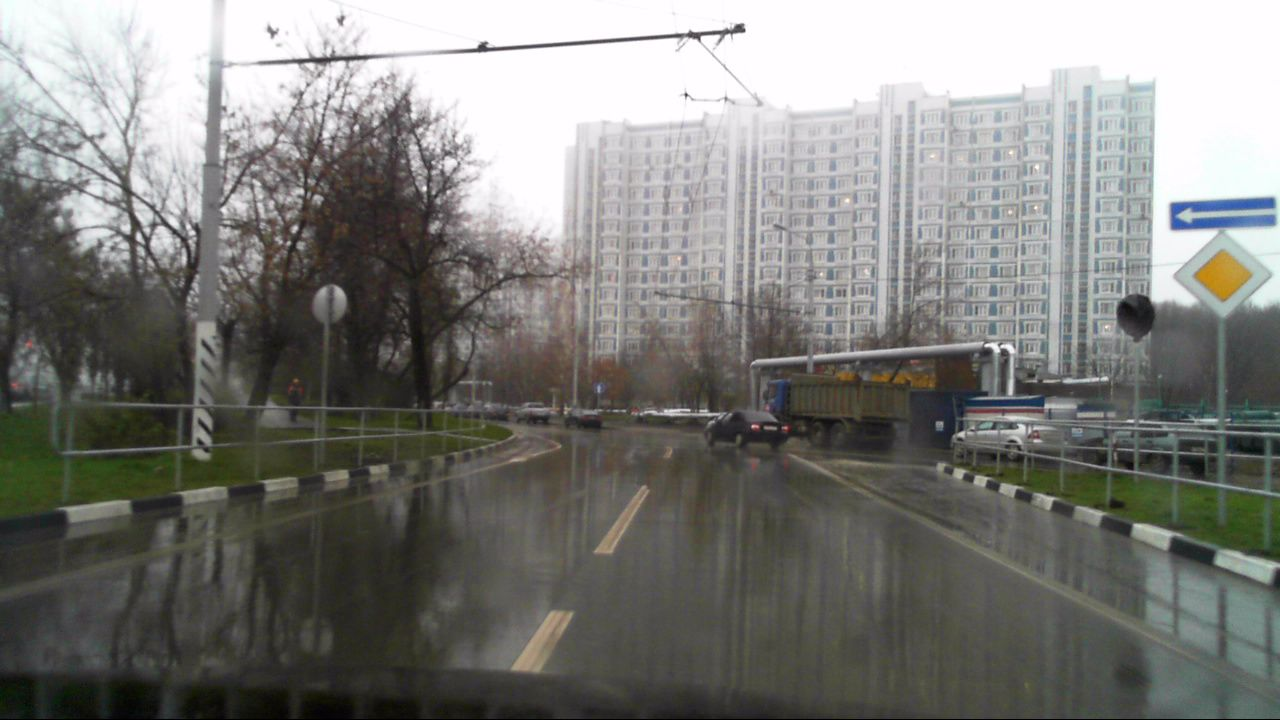One-Way Traffic: (1170, 198, 1278, 229)
